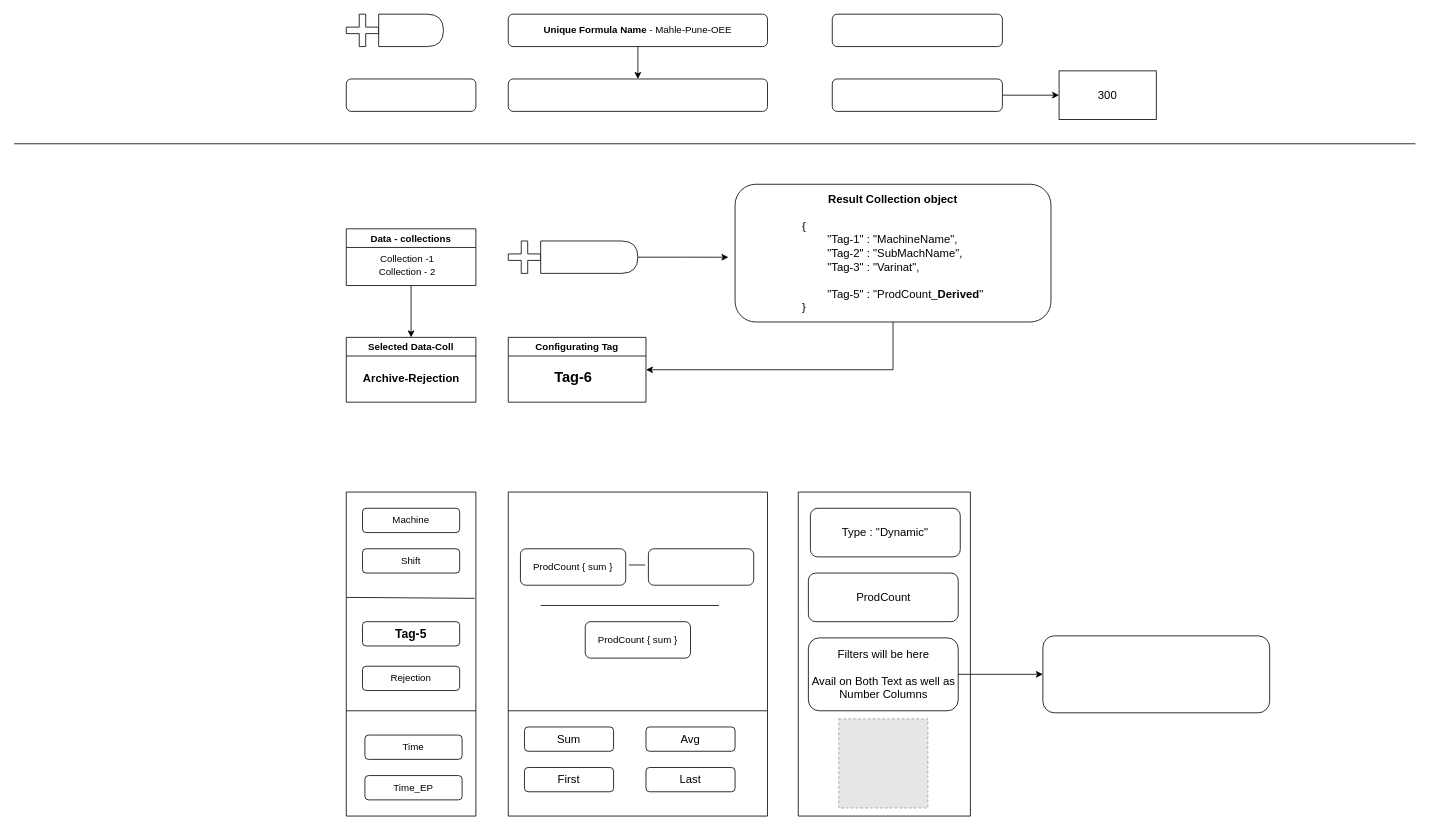
This 1430x830 diagram has some shape labels left out. Grey dashed boxes stand in for pictures. Here are the shapes that lost their labels. From the top down, the centre of each, then its label:
At point (410, 30): "ADD".
At point (916, 30): "Interval Configuration".
At point (410, 94): "SAVE & PROCEED".
At point (637, 94): "Unique Result Collection - Archive-OEE".
At point (916, 94): "How much secs ?".
At point (589, 256): "Result Tag".
At point (701, 566): "Rejection { first }".
At point (1156, 674): "Distinct ------- Shift , Machine , SubMach Time_EP -------- Today".
